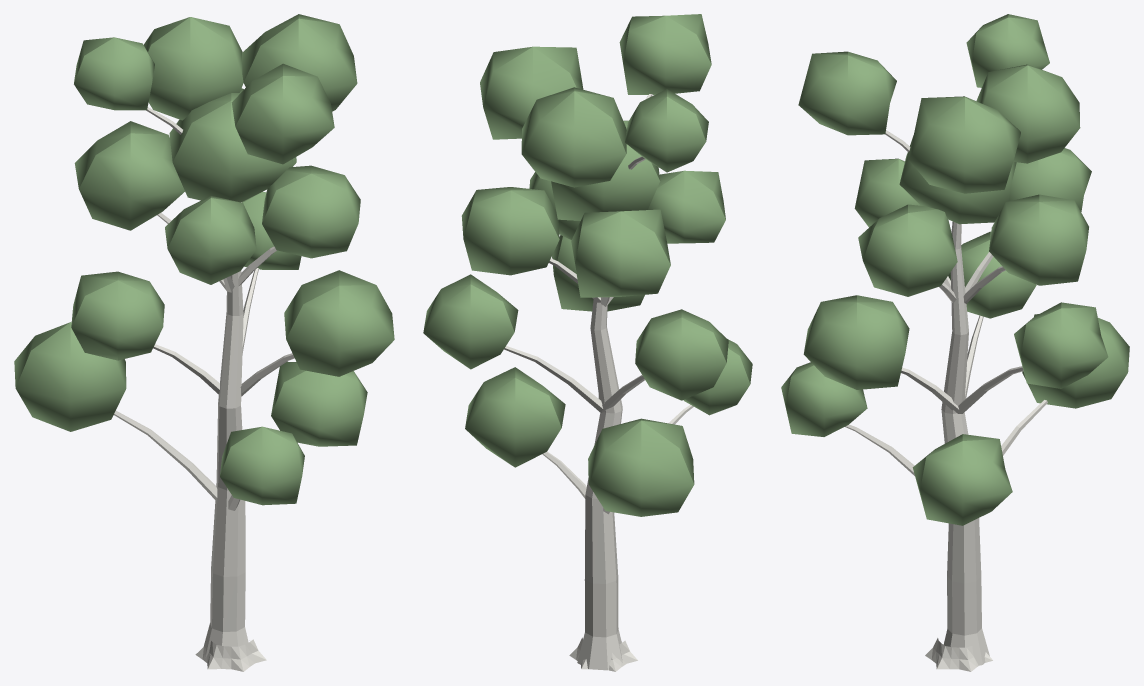
File: beech_old.glb
3 views of the same model, side by side, from view 1: azimuth 30°, elevation 25°; view 2: azimuth 150°, elevation 25°; view 3: azimuth 270°, elevation 25° (orthographic). The views are drawn at different scales.
Parts seen in each view (by area): view 1: beech-old; view 2: beech-old; view 3: beech-old.
Part boxes in pixels (x1=…): beech-old: x1=14, y1=14, x2=394, y2=671; beech-old: x1=423, y1=14, x2=752, y2=671; beech-old: x1=781, y1=14, x2=1129, y2=671.
Bounding box in the file's own units: 10.65 × 21.73 × 11.44.
